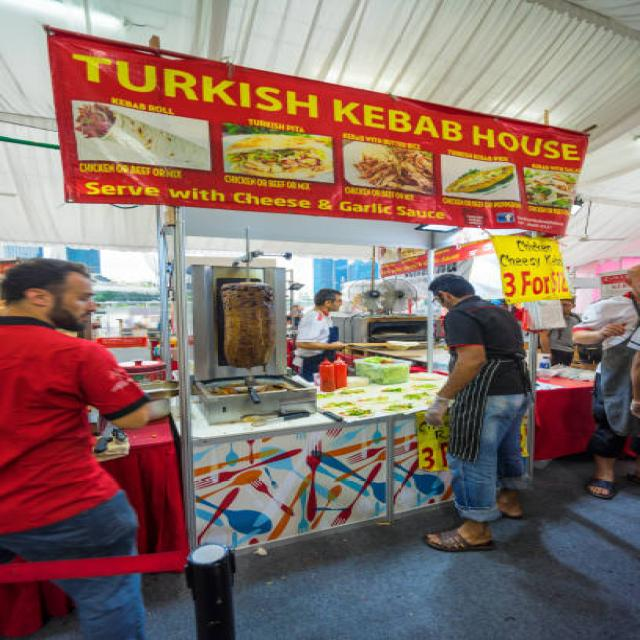Emperan: (4, 27, 630, 589)
